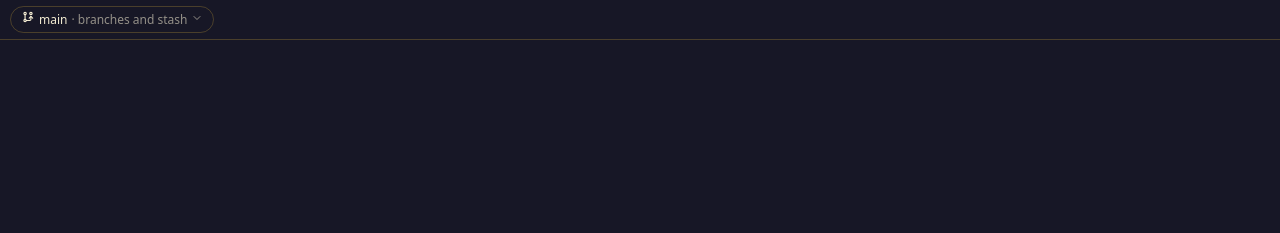
Scenario: BranchBar › is closed until asked, then lists branches (current one not clickable) and filters
The width and height of the screenshot is (1280, 233).
Click the button "main · branches and stash" at (112, 20), box [10,6,214,33]
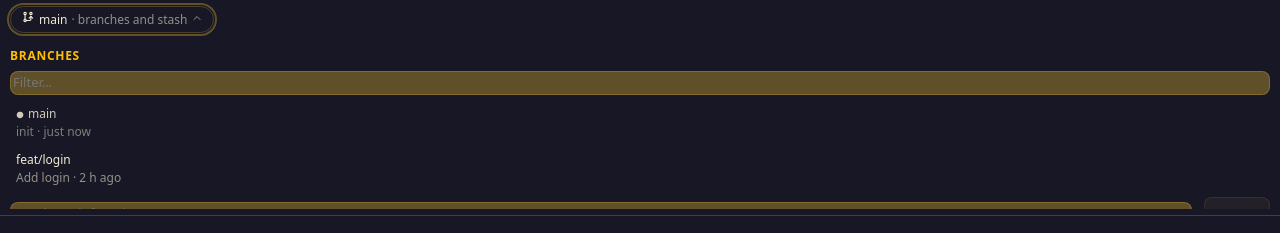
expect the text "Add login · 2 h ago" is shown: met, box [16,168,121,186]
expect the button "main init · just now" is disabled: met, box [10,100,1270,144]
Type "LOGIN" into the field named "Filter branches" at (640, 83), box [10,71,1270,94]
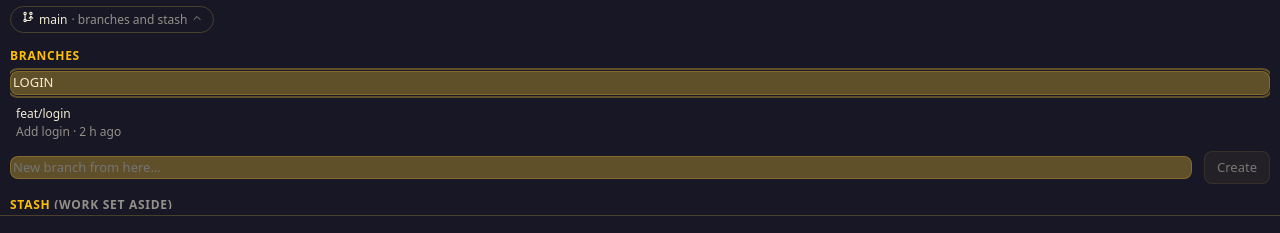
expect the button "init ·" is gone: met
Replace the text in the field named "Filter branches" with "zzz" at (640, 83), box [10,71,1270,94]
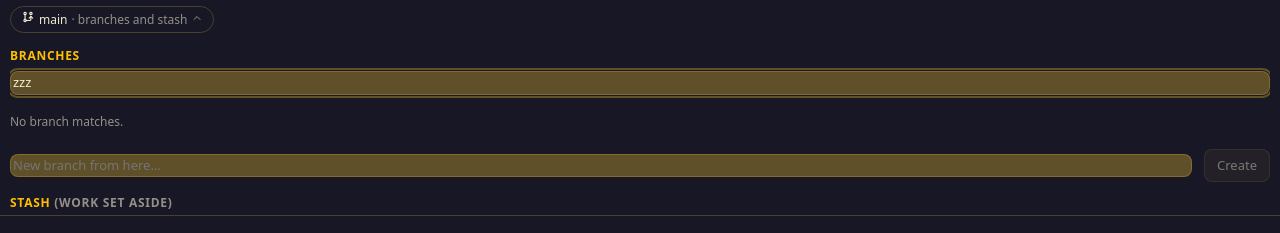
expect the text "No branch matches." is shown: met, box [10,112,123,130]
